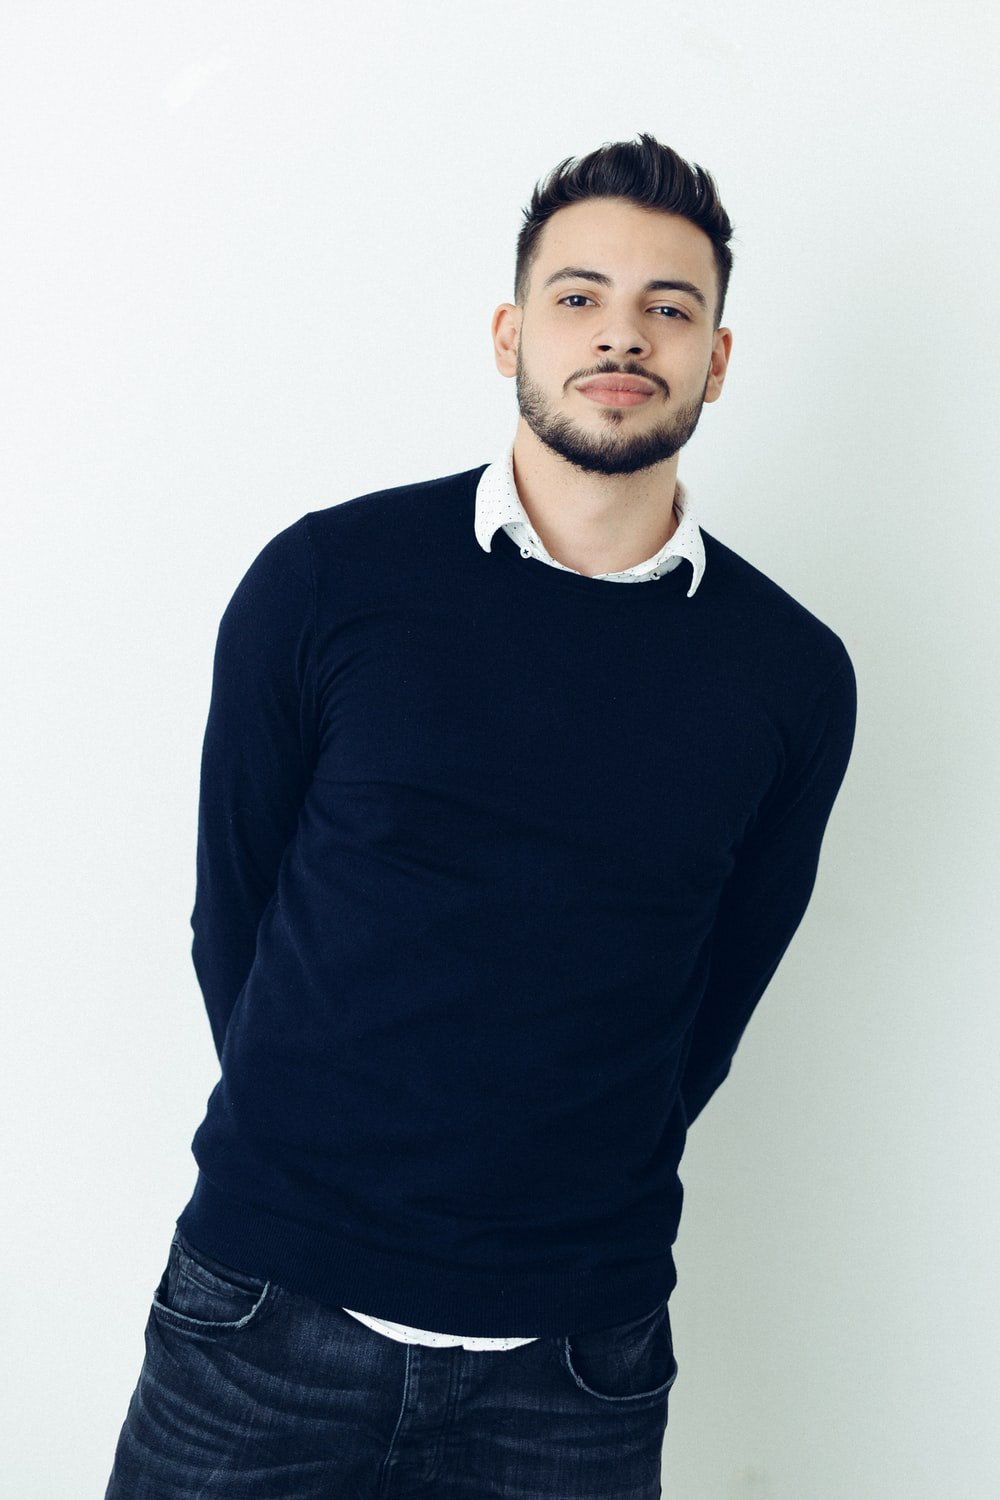noMask: (469, 124, 766, 467)
